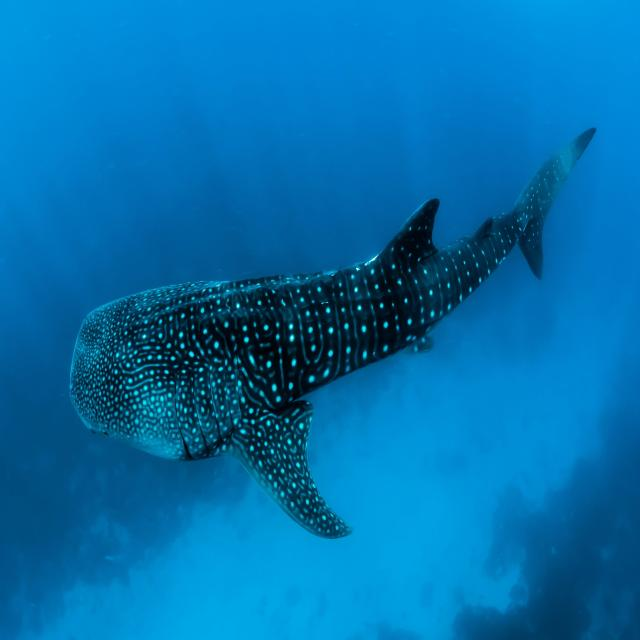gaviota: (70, 128, 595, 538)
